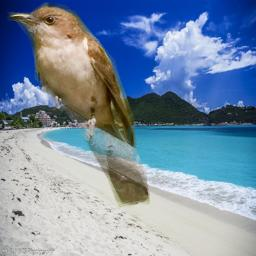Cuckoo: (7, 2, 150, 208)
